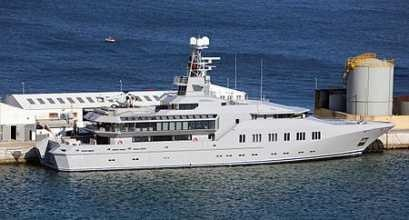yacht: (37, 47, 398, 175)
